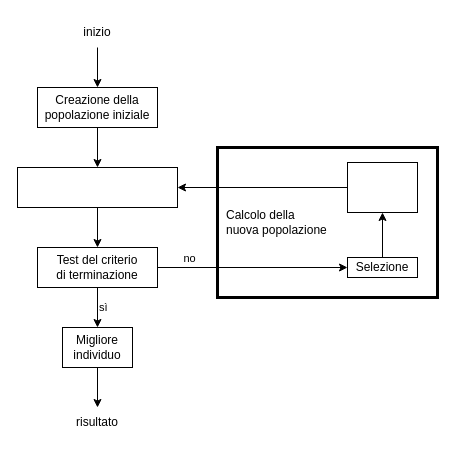
The diagram is 456 pixels wide and 454 high, and some of its shapes have lost their labels. The shapes that lost their labels are listed below. From the top down, each one's centre as x and y in pixels, then its label:
At point (97, 187): "Calcolo della Funzione di valutazione".
At point (382, 187): "Crossover o Mutazione".
